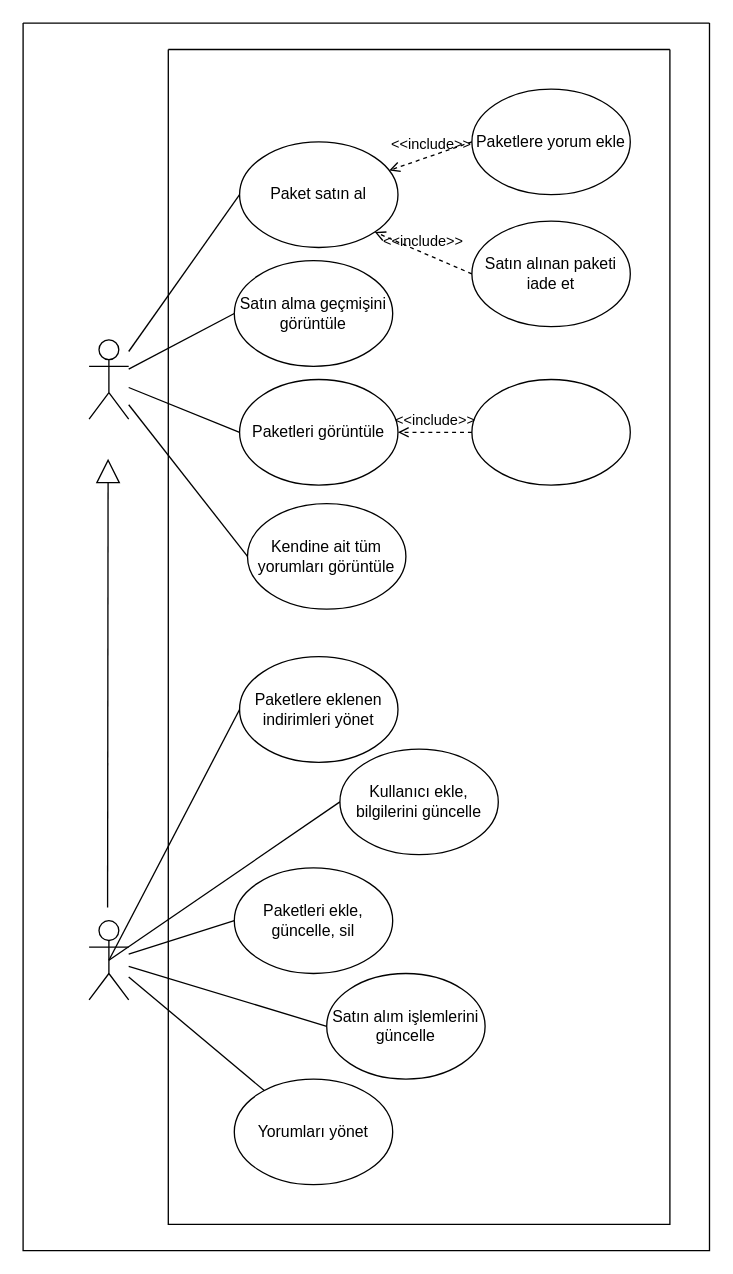
Image size: 733x1274. Some labels were removed from this diagram. The centre of each missing label's shape, as x and y in pixels:
Admin: (x=108, y=959)
Kullanıcı: (x=108, y=379)
Pakete ait yorumları görüntüle: (x=550, y=431)
